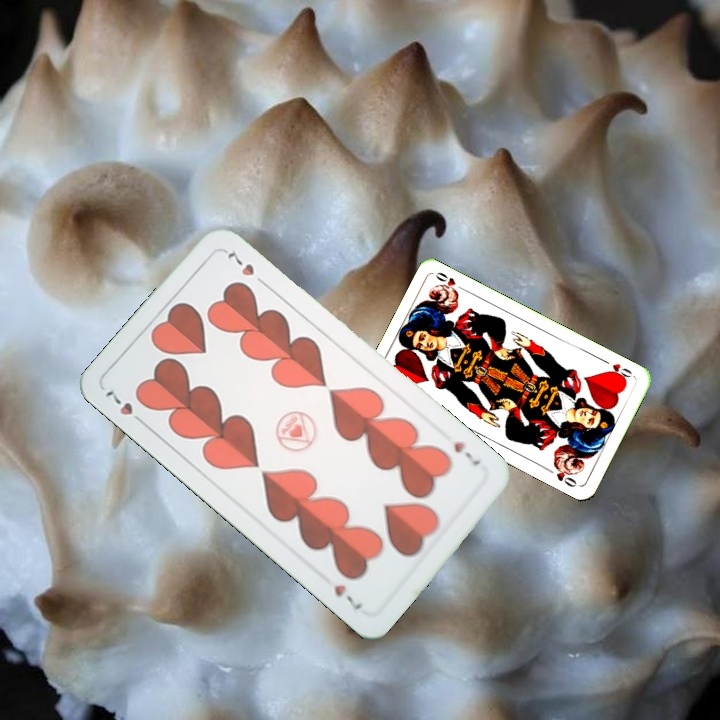H7: (101, 386, 149, 429), (449, 437, 483, 469)
HO: (599, 356, 635, 383)
